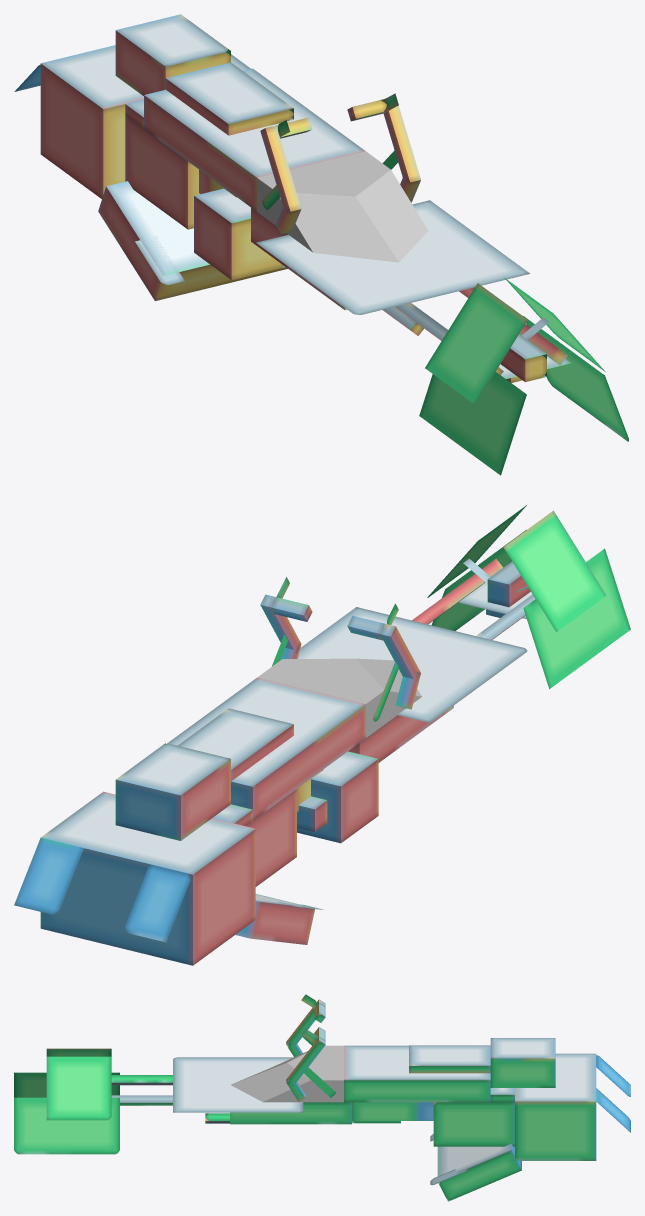
The picture shows the model from 3 angles, top to bottom: view 1: azimuth 30°, elevation 25°; view 2: azimuth 150°, elevation 25°; view 3: azimuth 270°, elevation 25°; orthographic projection. The views are drawn at different scales.
Parts seen in each view (by area): view 1: Machinery Plane, Engine Covering, Seating, Pedal Support, Right Hood, Right Upper Vane, Backrest, Right Lower Vane, Seat Cushion, Left Hood, Intake, Machinery Aft (+9 smaller); view 2: Engine Covering, Seating, Machinery Plane, Backrest, Right Upper Vane, Right Lower Vane, Intake, Seat Cushion, Right Hood, Left Brake Flap, Right Brake Flap, Machinery Aft (+13 smaller); view 3: Engine Covering, Seating, Machinery Plane, Left Lower Vane, Left Upper Vane, Machinery Aft, Backrest, Pedal Support, Left Hood, Seat Cushion, Bottom Hood, Machinery Fore (+11 smaller).
Part boxes in pixels (box(x1,y1,x2,y2)): Machinery Plane: box(256, 200, 529, 314); Engine Covering: box(40, 45, 250, 199); Seating: box(144, 68, 365, 211); Pedal Support: box(98, 181, 287, 300); Right Hood: box(257, 164, 398, 262); Right Upper Vane: box(425, 283, 527, 404); Backrest: box(115, 14, 230, 95); Right Lower Vane: box(419, 372, 526, 475); Seat Cushion: box(165, 62, 293, 135); Left Hood: box(312, 151, 428, 262); Intake: box(194, 188, 285, 279); Machinery Aft: box(125, 116, 200, 229); Engine Covering: box(40, 791, 255, 965); Seating: box(166, 677, 365, 820); Machinery Plane: box(297, 607, 527, 722); Backrest: box(115, 743, 230, 840); Right Upper Vane: box(503, 510, 606, 631); Right Lower Vane: box(523, 548, 630, 688); Intake: box(297, 751, 378, 843); Seat Cushion: box(178, 708, 293, 781); Right Hood: box(312, 658, 421, 737); Left Brake Flap: box(14, 837, 83, 914); Right Brake Flap: box(125, 864, 190, 942); Machinery Aft: box(246, 789, 296, 886); Engine Covering: box(515, 1053, 596, 1160); Seating: box(344, 1045, 490, 1102); Machinery Plane: box(173, 1057, 303, 1112); Left Lower Vane: box(14, 1097, 119, 1154); Left Upper Vane: box(46, 1056, 111, 1120); Machinery Aft: box(433, 1102, 514, 1146); Backrest: box(490, 1038, 555, 1087); Pedal Support: box(437, 1143, 521, 1201); Left Hood: box(231, 1063, 343, 1102); Seat Cushion: box(409, 1045, 490, 1073); Bottom Hood: box(230, 1102, 351, 1124); Machinery Fore: box(352, 1102, 433, 1120).
Bounding box in the file's own units: 1 × 1.41 × 4.73.
Materials: 2 (1 with a texture image).
